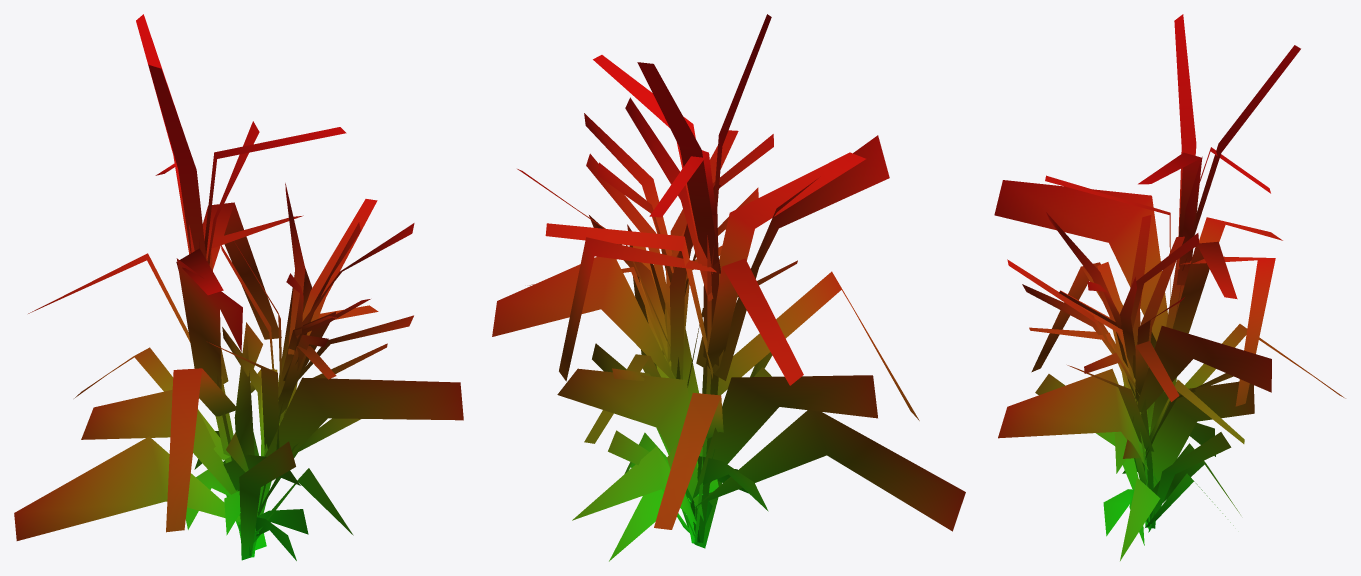
File: Var7_LOD3.fbx
3 views of the same model, side by side, from view 1: azimuth 30°, elevation 25°; view 2: azimuth 150°, elevation 25°; view 3: azimuth 270°, elevation 25° (orthographic). The views are drawn at different scales.
Visible parts, largest first — view 1: _d2c0_Var7_LOD3; view 2: _d2c0_Var7_LOD3; view 3: _d2c0_Var7_LOD3.
Boxes of the visible parts, left/top/right/bottom form: _d2c0_Var7_LOD3: left=14, top=14, right=463, bottom=560; _d2c0_Var7_LOD3: left=492, top=14, right=965, bottom=561; _d2c0_Var7_LOD3: left=994, top=14, right=1345, bottom=560.
Bounding box in the file's own units: 33.8 × 42.54 × 28.35.
